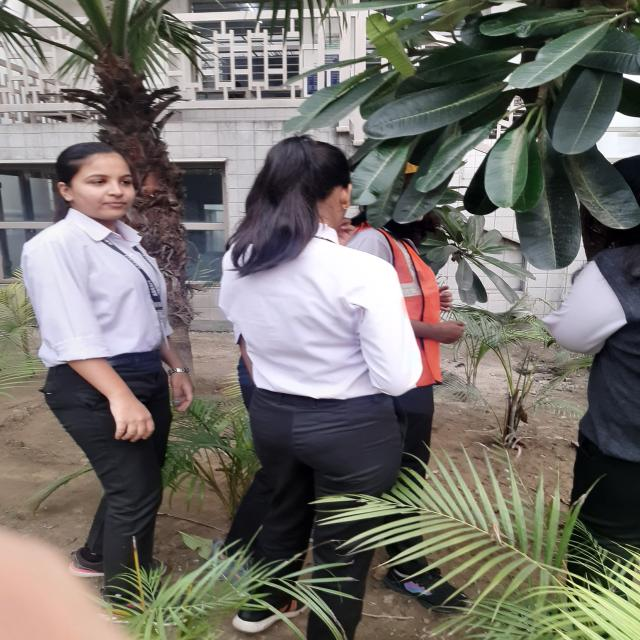unsafe: (214, 134, 419, 640), (0, 139, 195, 626)
